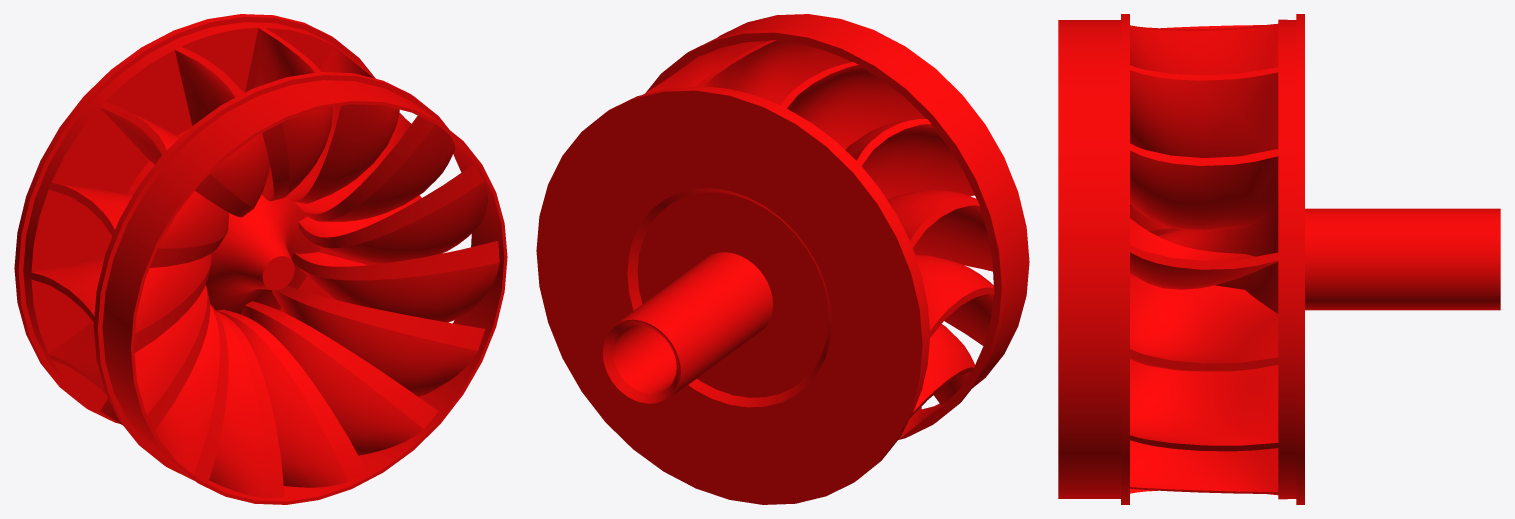
File: impeller (2).glb
The picture shows the model from 3 angles, left to right: view 1: azimuth 30°, elevation 25°; view 2: azimuth 150°, elevation 25°; view 3: azimuth 270°, elevation 25°; orthographic projection. The views are drawn at different scales.
Parts seen in each view (by area): view 1: impeller; view 2: impeller; view 3: impeller.
Part boxes in pixels (left/top/right/bottom): impeller: left=14, top=14, right=507, bottom=504; impeller: left=536, top=14, right=1029, bottom=504; impeller: left=1058, top=14, right=1500, bottom=504.
Bounding box in the file's own units: 0.605 × 0.605 × 0.543.
